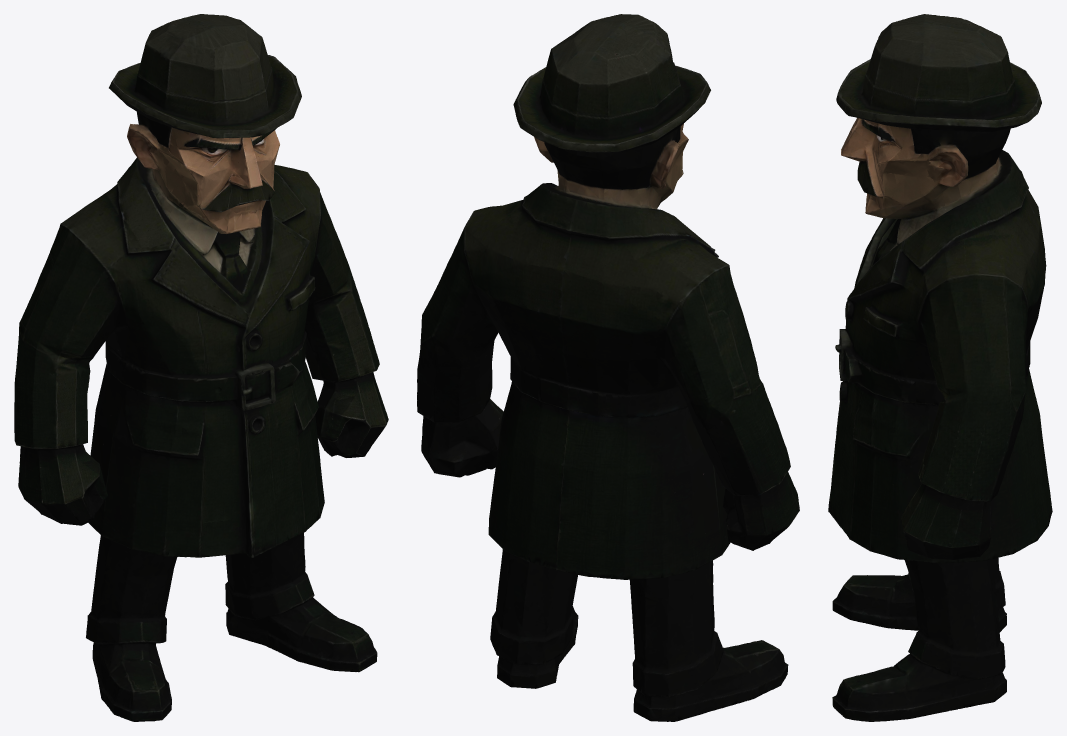
Rendered from Watson_Test.fbx.
The picture shows the model from 3 angles, left to right: view 1: azimuth 30°, elevation 25°; view 2: azimuth 150°, elevation 25°; view 3: azimuth 270°, elevation 25°; orthographic projection. The views are drawn at different scales.
Parts seen in each view (by area): view 1: Watson_180cm.002; view 2: Watson_180cm.002; view 3: Watson_180cm.002.
Part boxes in pixels (x1,y1,x2,y2): Watson_180cm.002: (14,14,388,721); Watson_180cm.002: (417,14,799,721); Watson_180cm.002: (828,14,1052,721).
Size of the model in its own units: 1.04 by 0.5711 by 1.8.
1 material, 1 textured.
